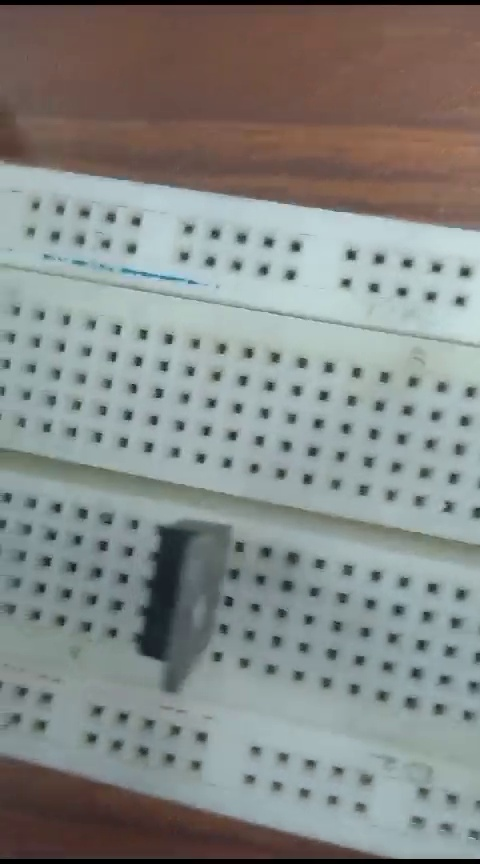voltage regulator: (118, 517, 249, 705)
